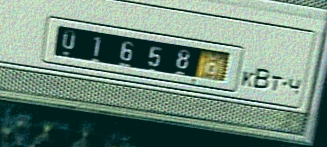0: (59, 28, 79, 51)
1: (88, 33, 105, 59)
5: (145, 43, 165, 69)
6: (117, 38, 138, 64)
8: (173, 47, 193, 71)
9: (201, 59, 220, 82)
screen: (37, 11, 249, 97)
